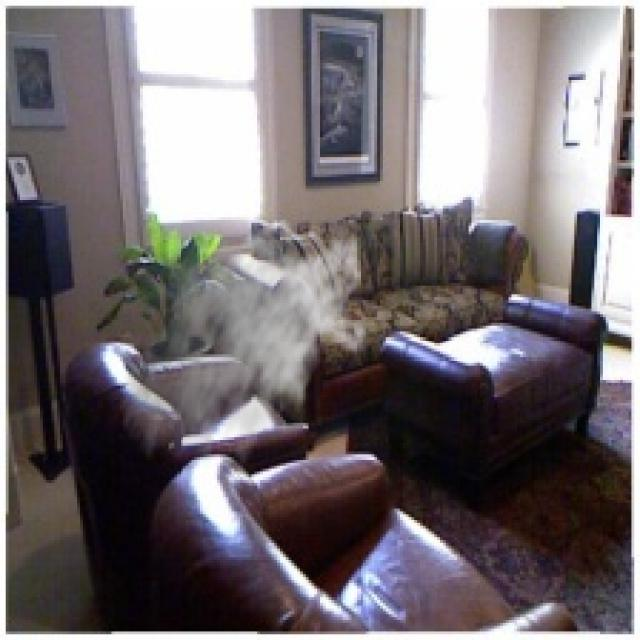smoke: (120, 223, 369, 480)
